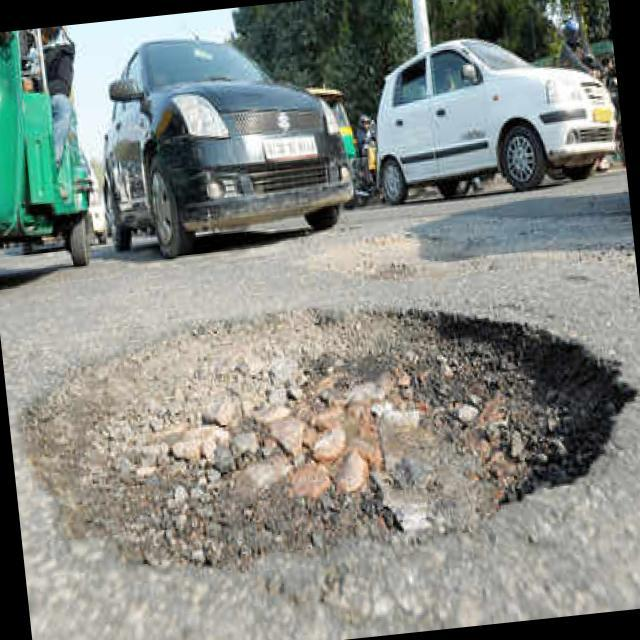Pothole: (18, 261, 640, 588)
